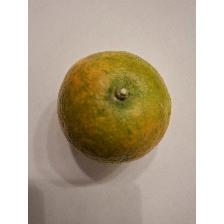Mandarine: (53, 44, 179, 166)
